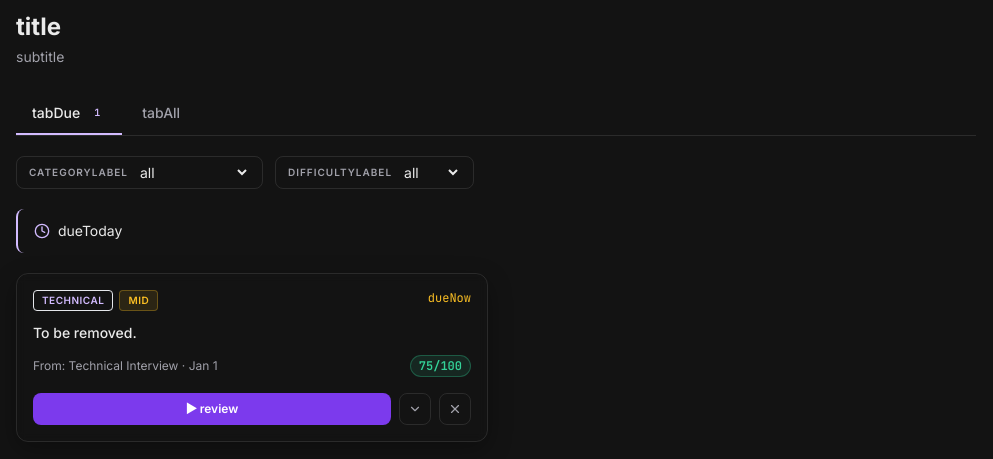
Test: BookmarksClient — remove bookmark › removes bookmark from the list after delete
Click the button "tabAll".
click(161, 113)  # box [126, 93, 196, 133]
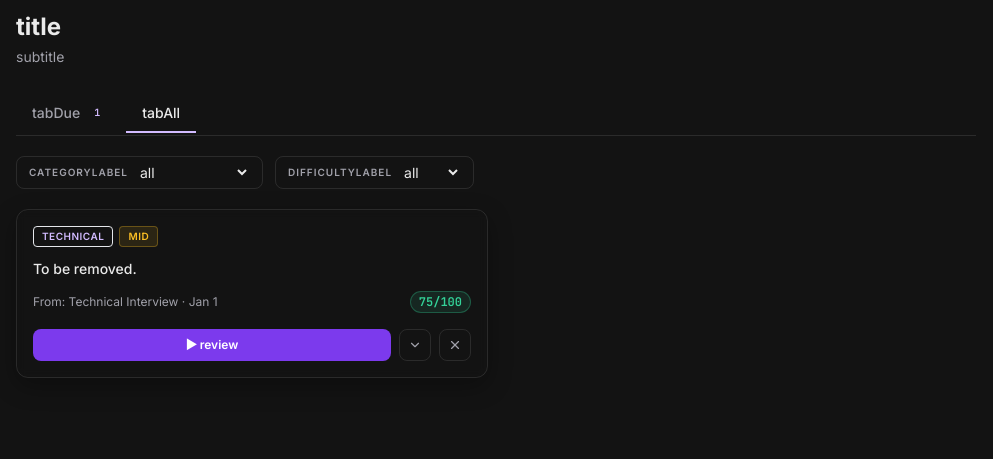
Expected: the text "To be removed." is shown, [33, 260, 137, 277]
Click the button titled "unsave".
click(455, 345)  # box [439, 329, 471, 361]
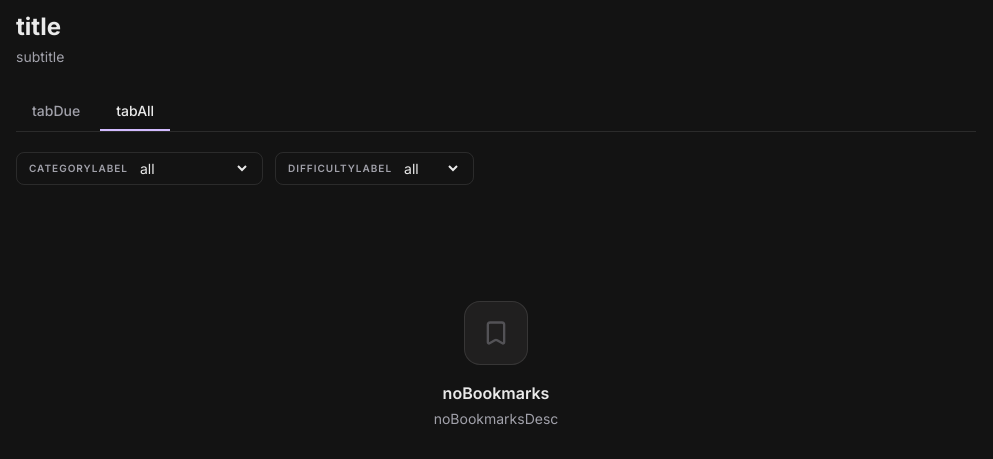
Expected: the text "To be removed." is gone
